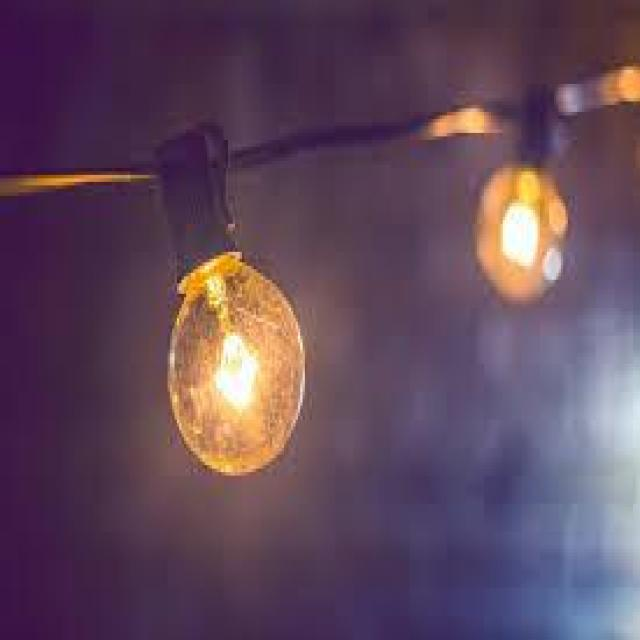other: (171, 285, 306, 454), (488, 176, 564, 276)
